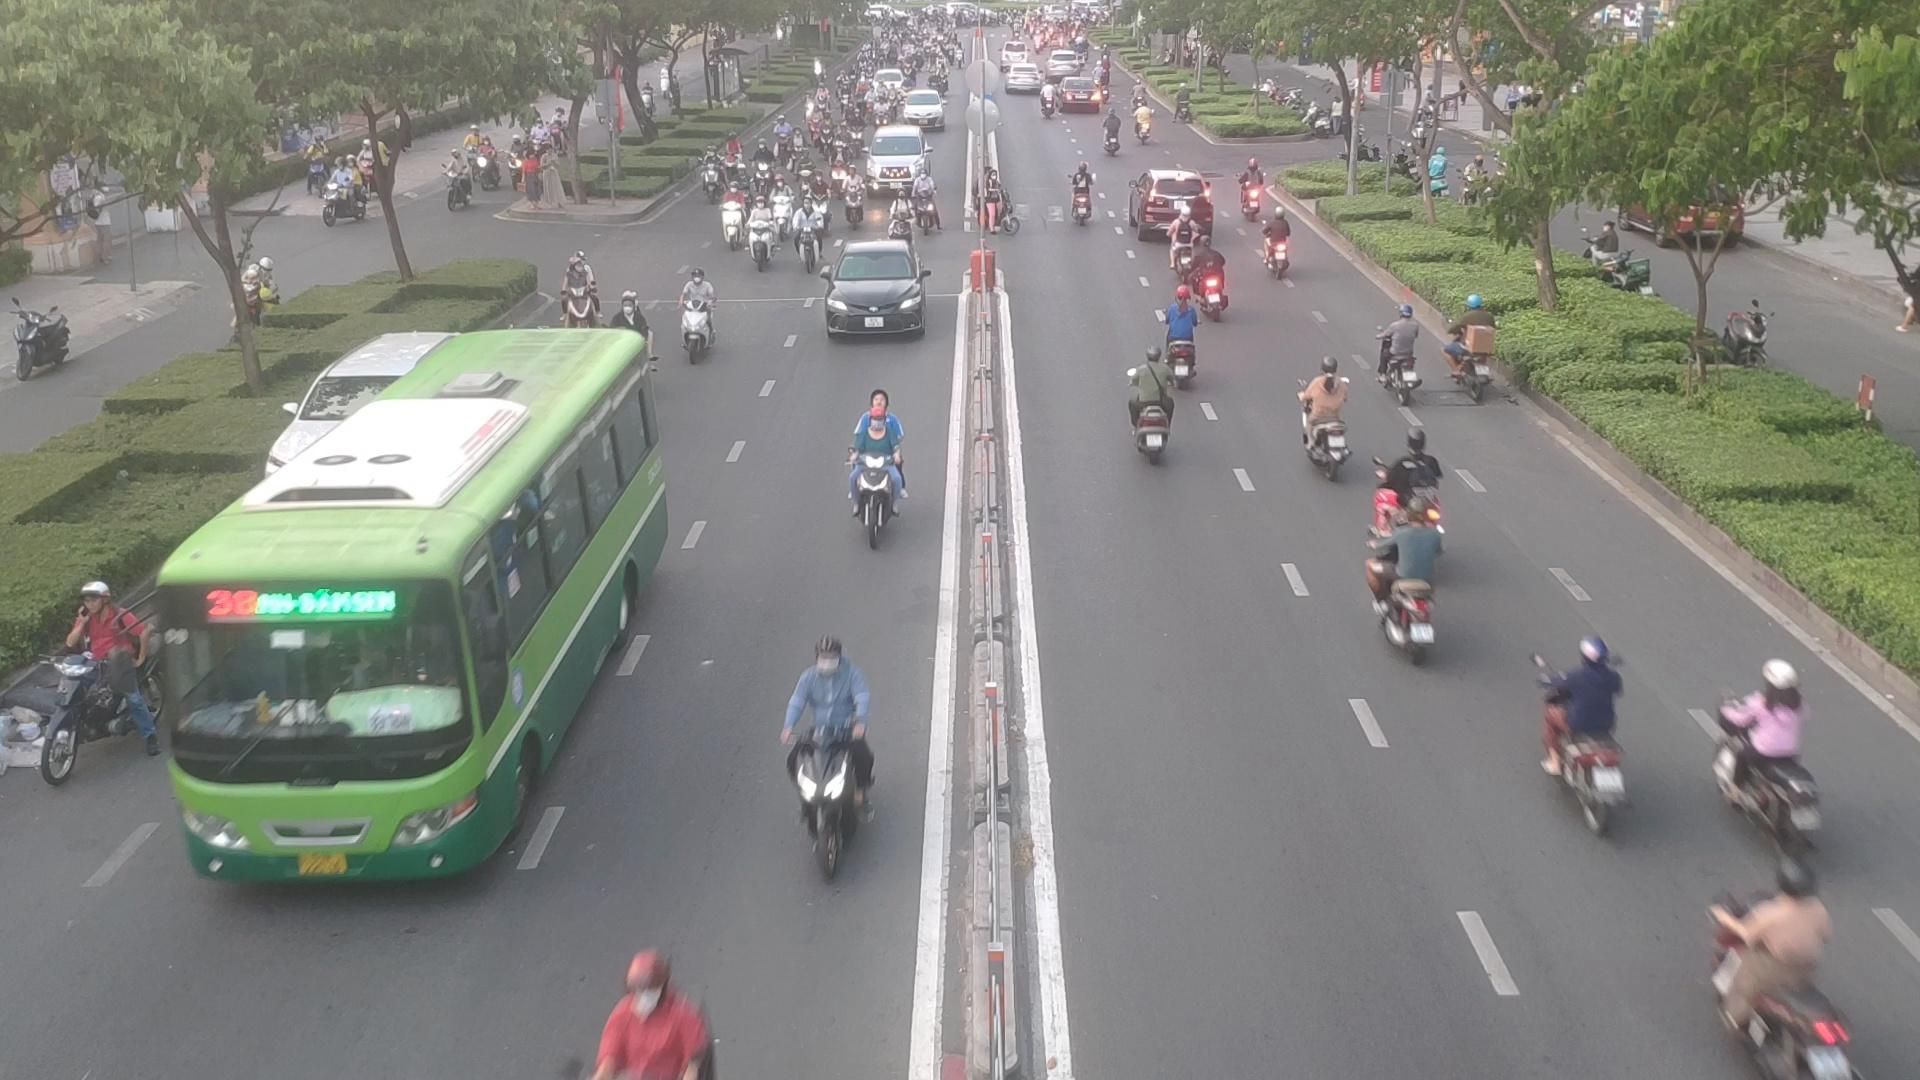bus: (169, 328, 657, 894)
car: (814, 244, 928, 342), (1127, 174, 1211, 247)
motorbike: (1704, 858, 1859, 1080), (779, 649, 890, 881), (1705, 665, 1826, 847), (37, 579, 160, 754), (1539, 644, 1644, 837), (574, 952, 723, 1075), (1369, 492, 1451, 659), (837, 402, 910, 545), (1378, 440, 1458, 534), (1294, 353, 1354, 472), (1125, 353, 1184, 460), (1447, 294, 1501, 401), (1378, 305, 1437, 401), (1179, 248, 1240, 326), (1160, 286, 1203, 394), (676, 269, 727, 360), (553, 253, 599, 324), (1062, 167, 1104, 229), (1262, 214, 1302, 280), (742, 206, 779, 272), (884, 191, 918, 247), (911, 183, 945, 237), (836, 175, 868, 232)
